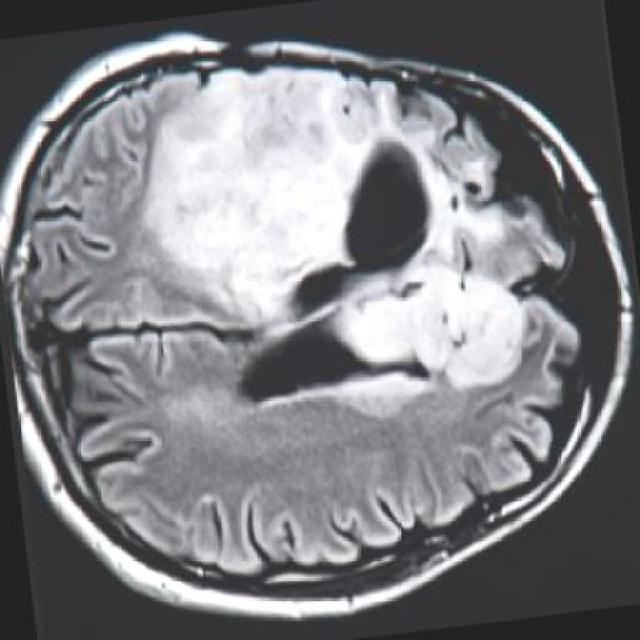Brain-Tumor: (144, 44, 382, 308), (340, 270, 544, 403)
